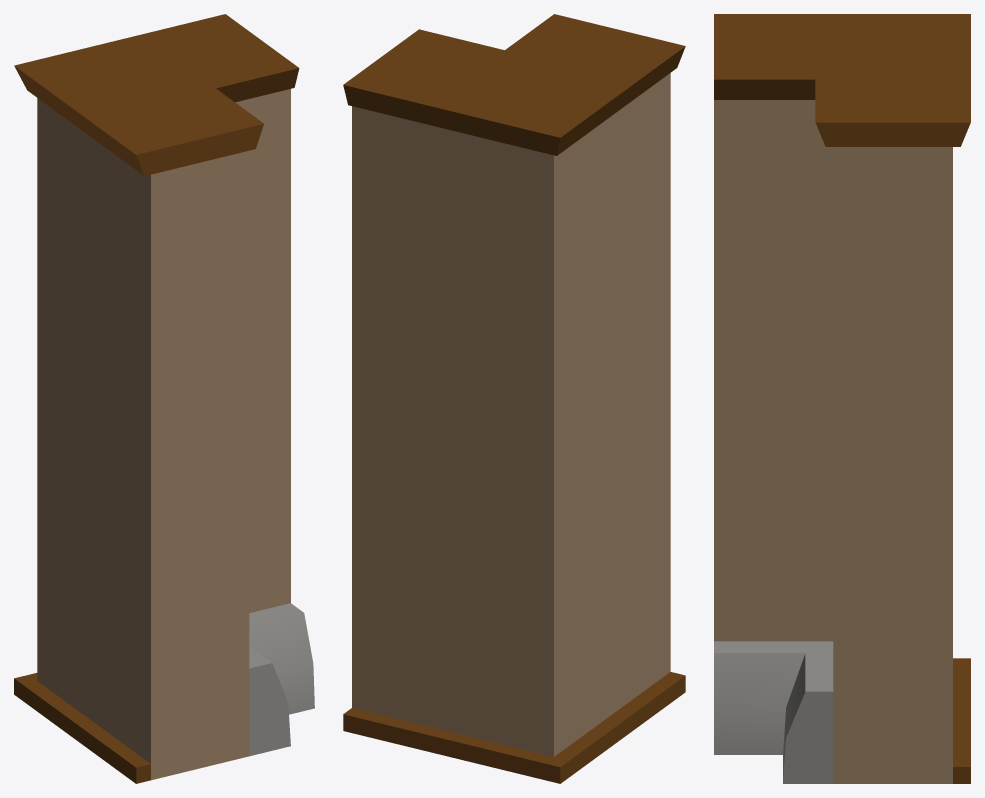
File: SM_Wall_Corner_Inner.fbx
The picture shows the model from 3 angles, left to right: view 1: azimuth 30°, elevation 25°; view 2: azimuth 150°, elevation 25°; view 3: azimuth 270°, elevation 25°; orthographic projection. The views are drawn at different scales.
Visible parts, largest first — view 1: SM_Wall_Corner_Inner; view 2: SM_Wall_Corner_Inner; view 3: SM_Wall_Corner_Inner.
Boxes of the visible parts, x1=… form: SM_Wall_Corner_Inner: x1=14, y1=14, x2=314, y2=783; SM_Wall_Corner_Inner: x1=343, y1=14, x2=685, y2=783; SM_Wall_Corner_Inner: x1=714, y1=14, x2=970, y2=783.
Bounding box in the file's own units: 108 × 306 × 108.
